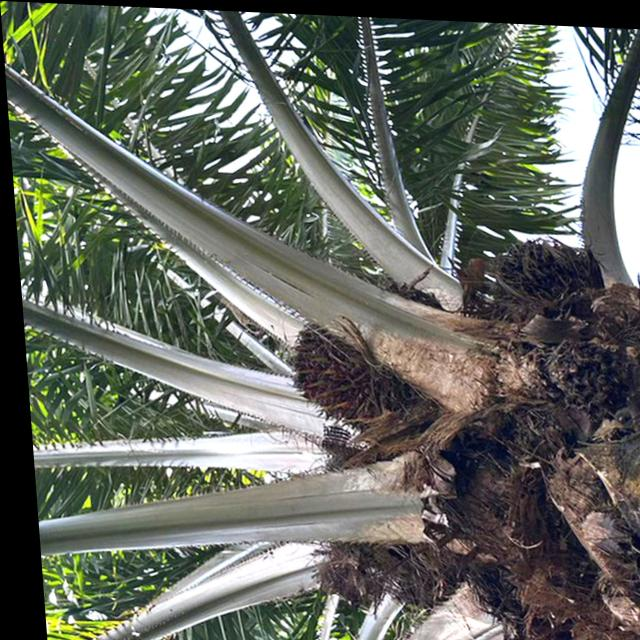ripe: (267, 304, 421, 429)
